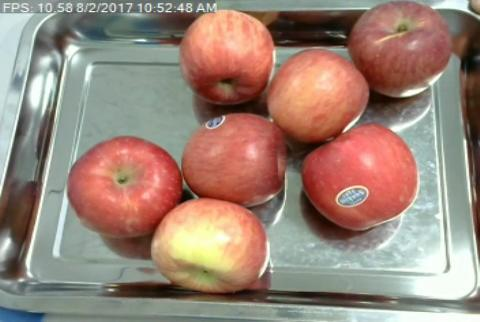apple: (302, 125, 419, 230), (151, 199, 270, 291), (68, 136, 178, 233), (350, 3, 452, 96), (266, 47, 368, 139), (183, 114, 285, 205), (180, 12, 275, 104)
